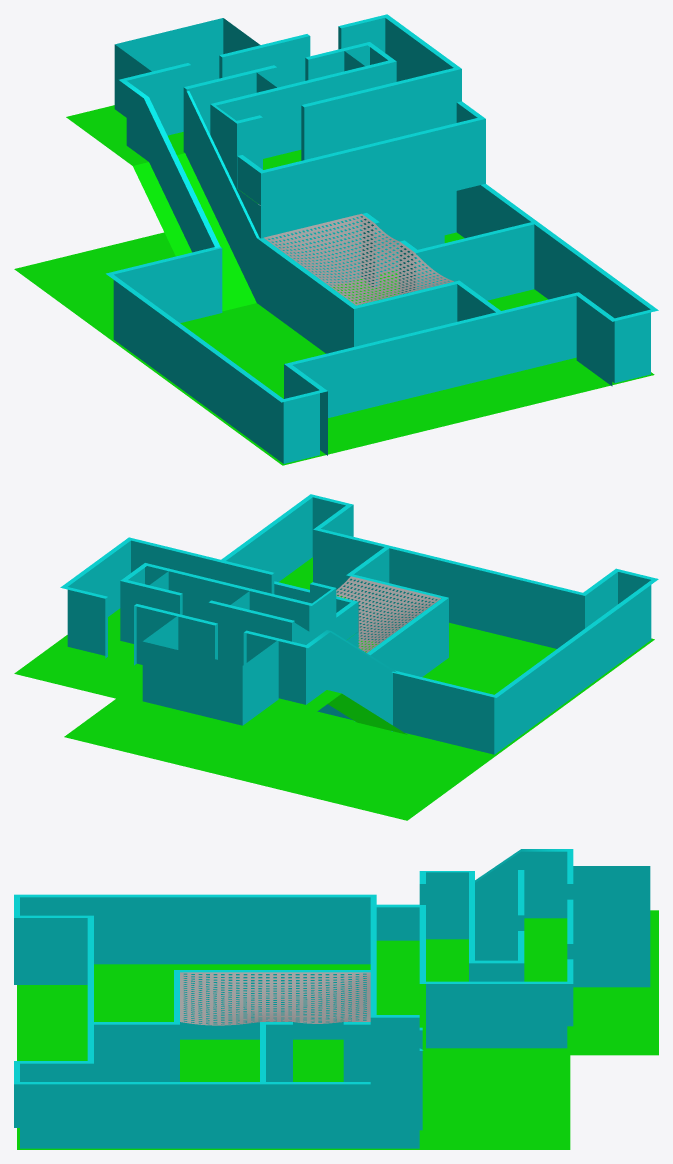
The model's file is spe_map.fbx.
The picture shows the model from 3 angles, top to bottom: view 1: azimuth 30°, elevation 25°; view 2: azimuth 150°, elevation 25°; view 3: azimuth 270°, elevation 25°; orthographic projection. The views are drawn at different scales.
Parts seen in each view (by area): view 1: Wall1, Floor, Net; view 2: Wall1, Floor, Net; view 3: Wall1, Floor, Net.
Part boxes in pixels (box(x1,y1,x2,y2)): Wall1: box(106, 14, 658, 463); Floor: box(14, 105, 654, 465); Net: box(264, 213, 453, 305); Wall1: box(60, 494, 658, 754); Floor: box(14, 557, 654, 820); Net: box(336, 576, 440, 652); Wall1: box(14, 849, 650, 1148); Floor: box(17, 910, 658, 1149); Net: box(180, 972, 370, 1025).
Size of what is drawn, in the model's own units: 746 by 300 by 1049.
